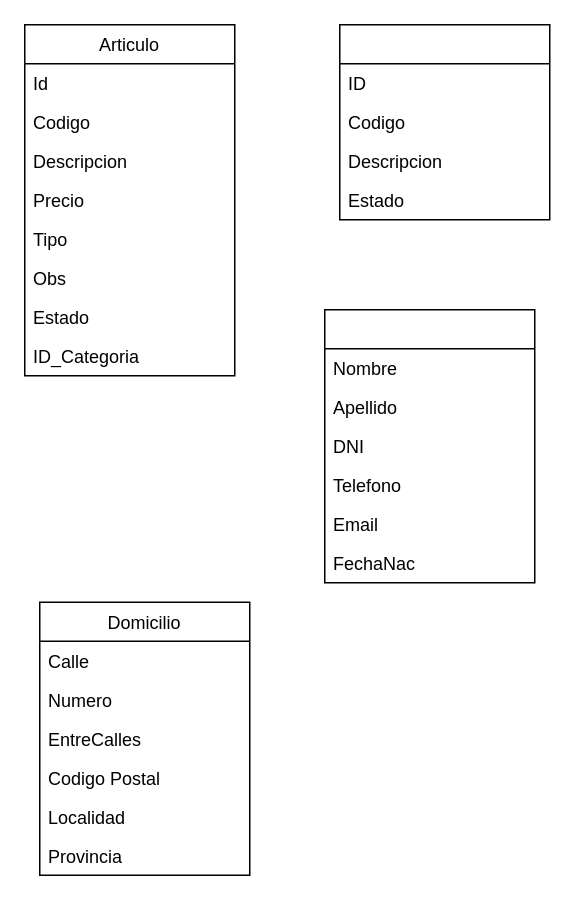
This 575x900 diagram has some shape labels left out. The shapes that lost their labels are listed below. From the top down, each one's box as (x1, y1, x2, y2) in pixels, then its label:
(338, 23, 550, 220): Categoria
(323, 308, 535, 583): Usuario
